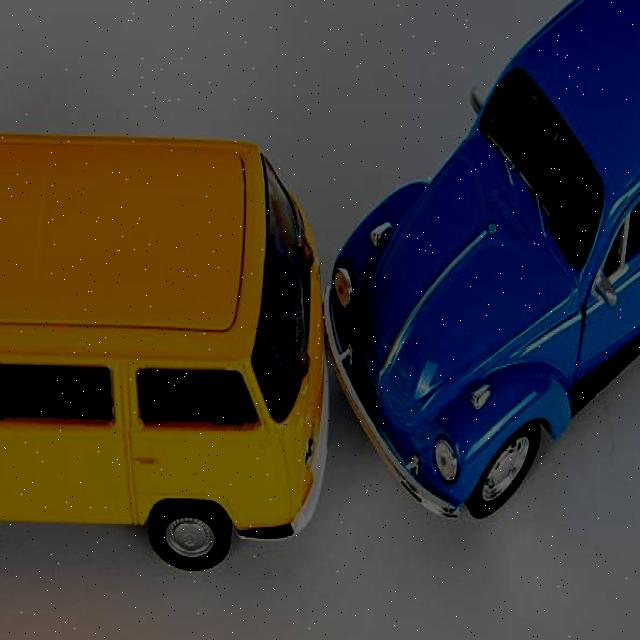car: (328, 0, 640, 512), (0, 142, 330, 568)
